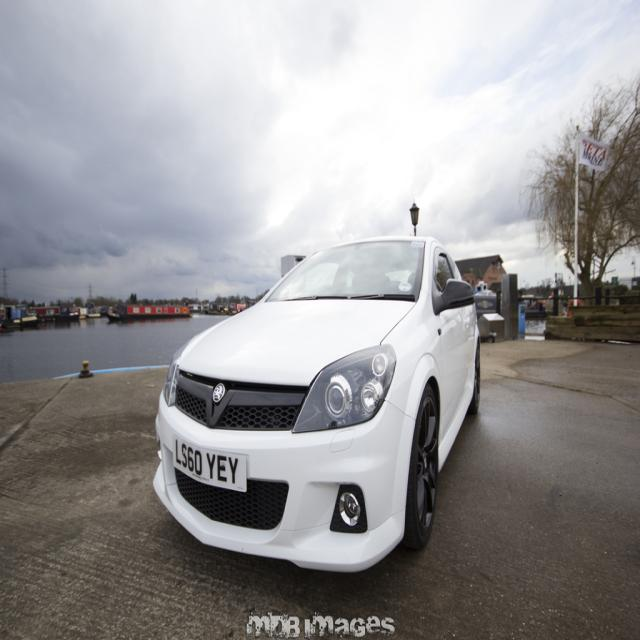car: (149, 215, 484, 569)
